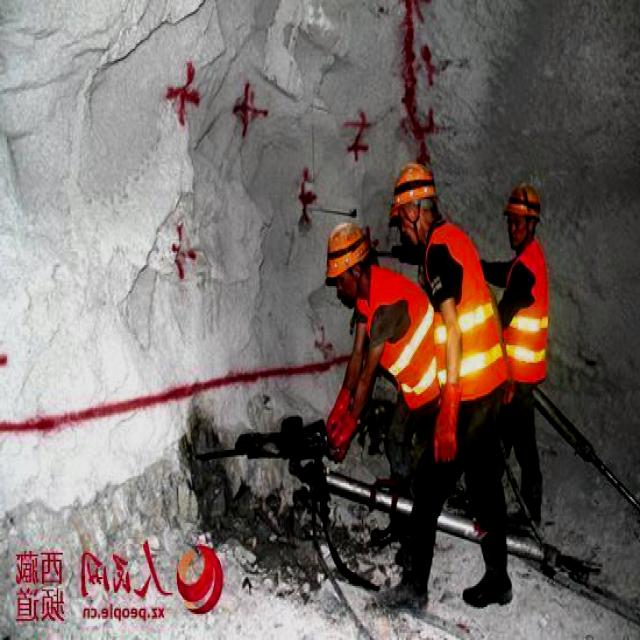face_nomask: (399, 206, 432, 251), (333, 267, 362, 310), (505, 218, 528, 251)
hand_glove: (432, 380, 463, 466), (318, 387, 352, 436), (328, 417, 359, 460)
head_helmet: (386, 148, 436, 218), (322, 214, 368, 274), (497, 178, 544, 214)
person: (377, 151, 498, 618), (301, 217, 432, 470), (499, 167, 552, 518)
shoes: (373, 571, 431, 618), (458, 567, 516, 610)
vest: (347, 272, 442, 406), (424, 220, 494, 389), (497, 237, 556, 382)
